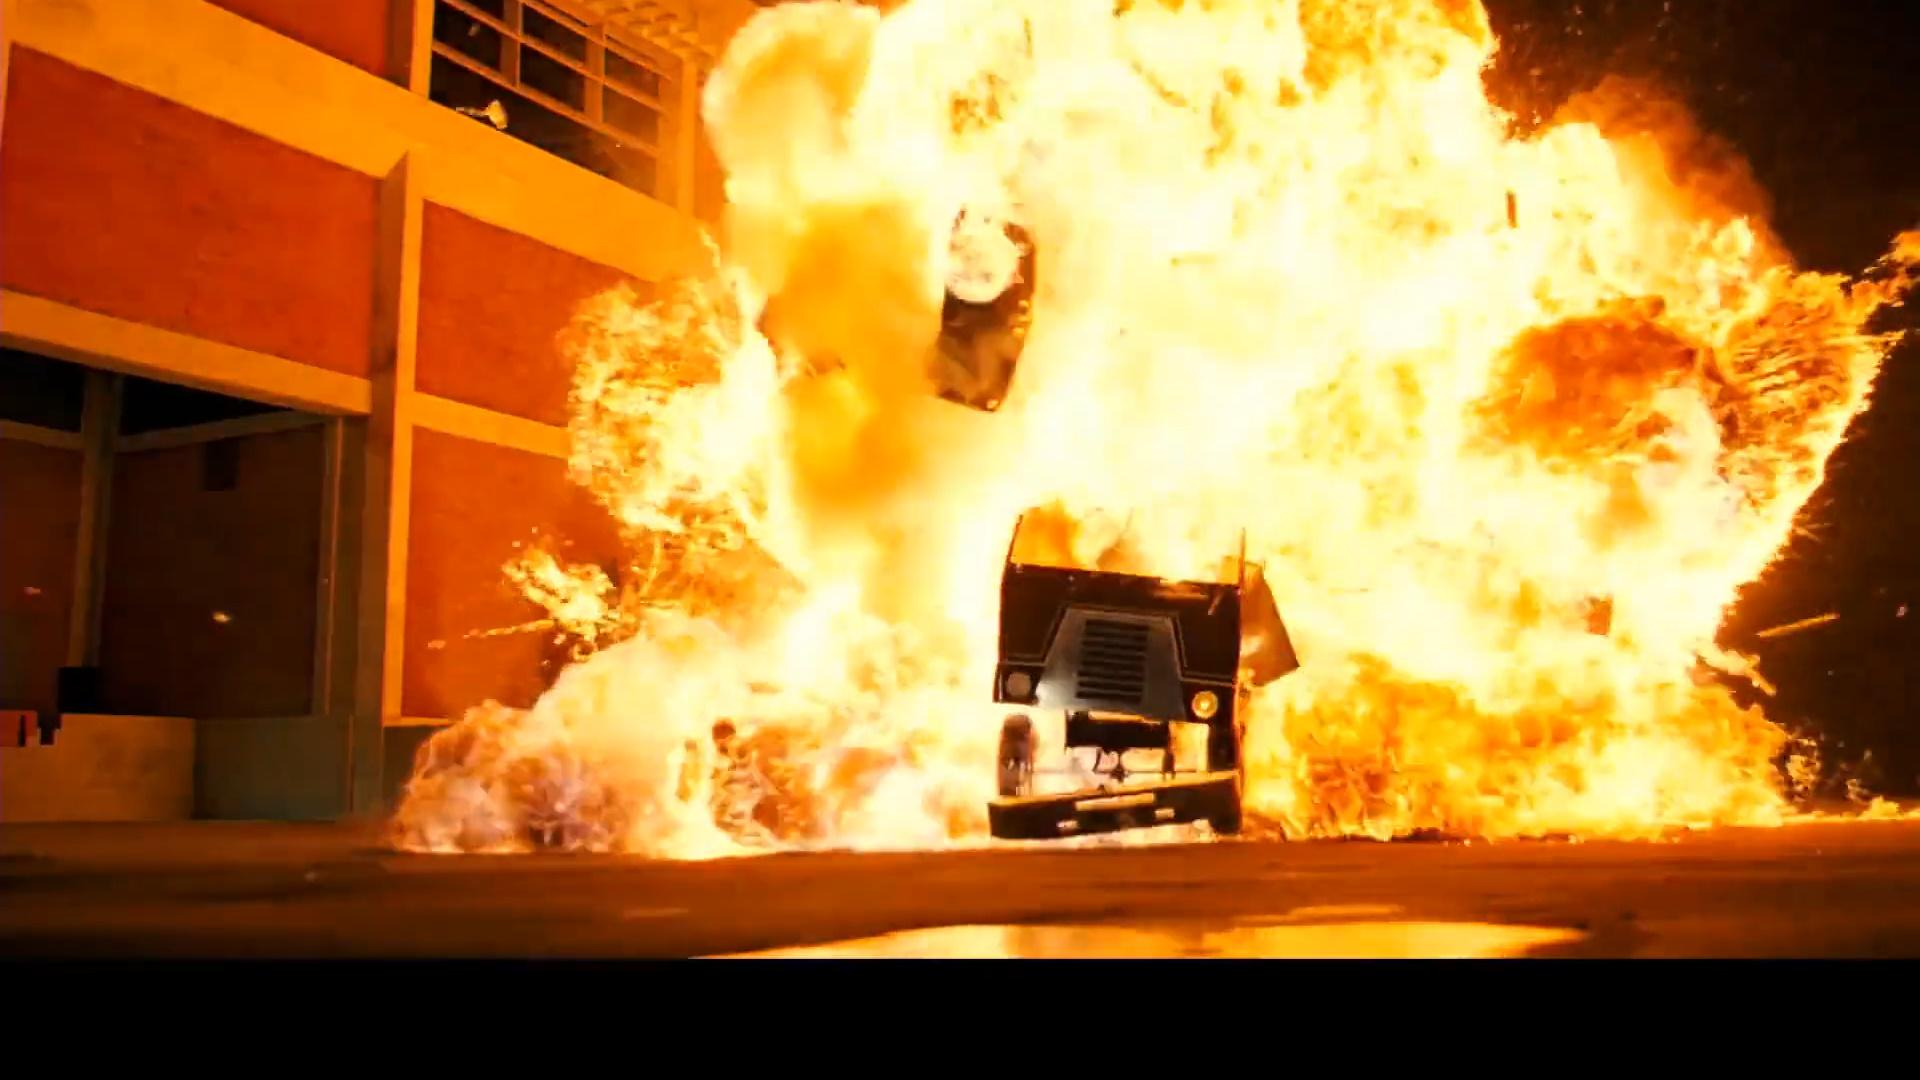fire: (372, 7, 1920, 876)
